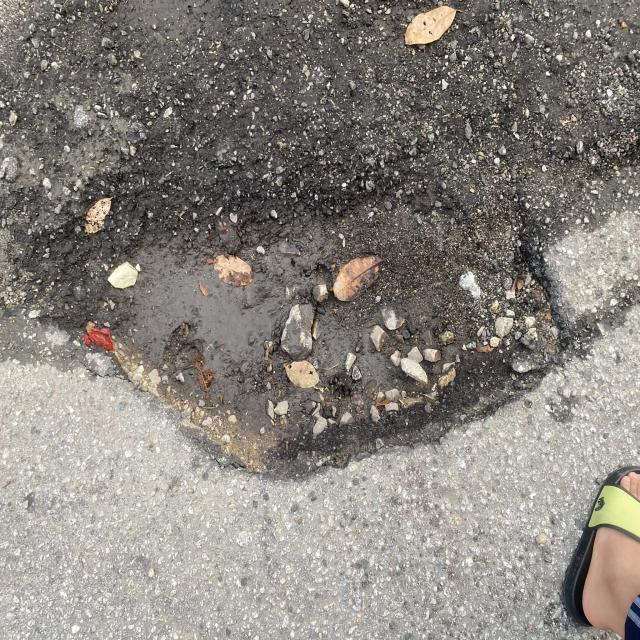Pothole: (55, 131, 629, 471)
